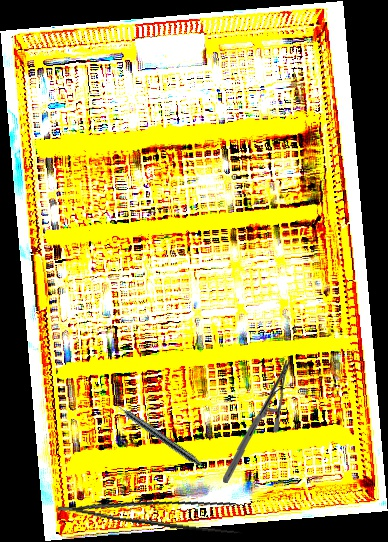Handpiece: (109, 397, 205, 469)
Needle Holder: (220, 360, 293, 483)
Tissue Forceps: (57, 476, 248, 540)
